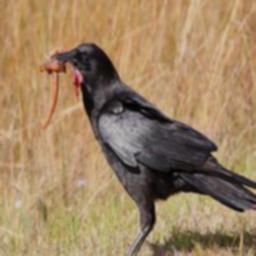Crow: (29, 34, 256, 256)
